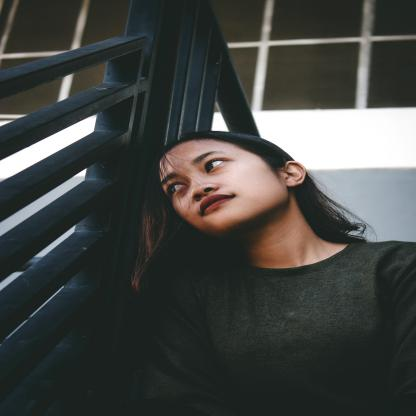Eye: (197, 156, 230, 173), (163, 181, 189, 197)
Mouth: (193, 194, 242, 216)
Nose: (190, 179, 220, 201)
